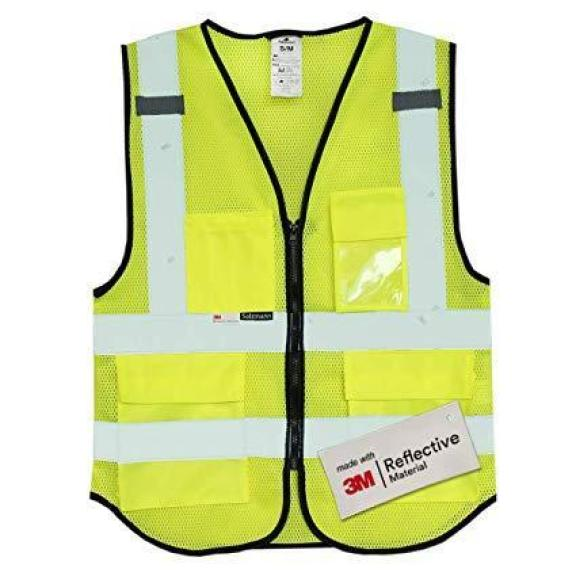safety_vest: (85, 20, 497, 554)
